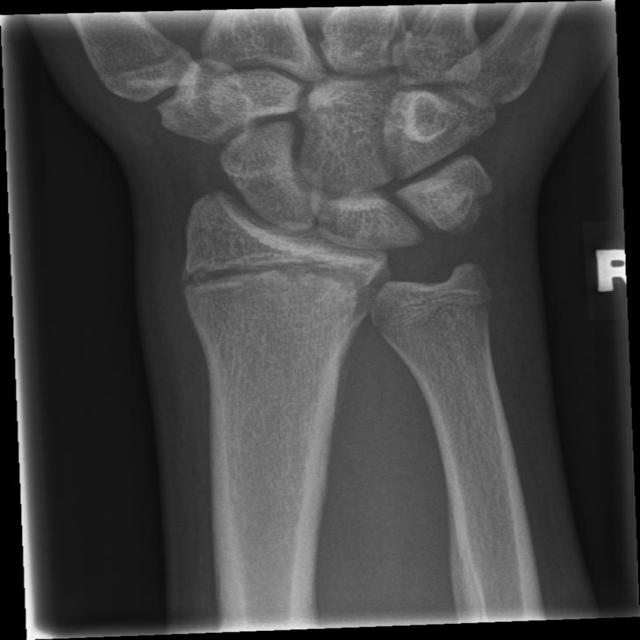fracture: (162, 244, 396, 308), (360, 278, 504, 332)
